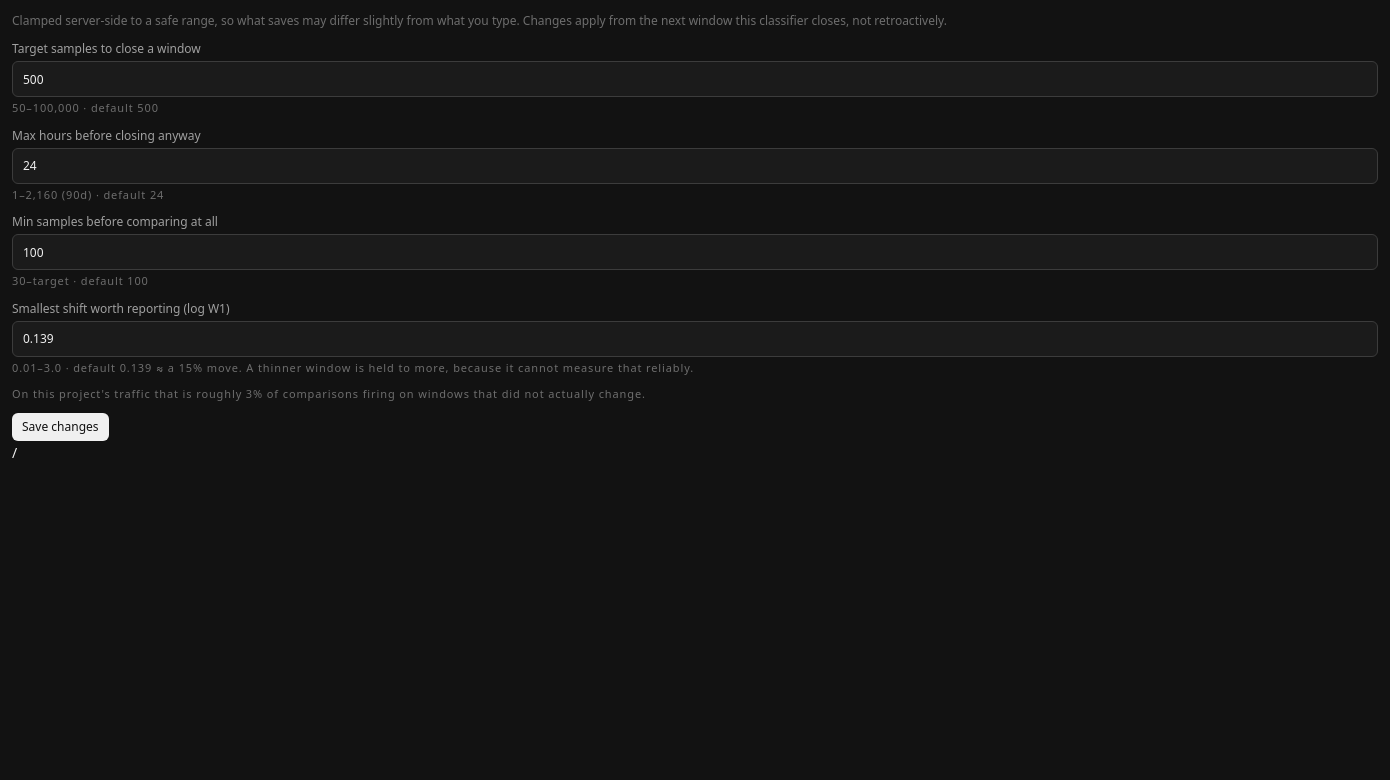
Test case: TuningSection › marks the Classifiers charts stale after a save
The image size is (1390, 780).
Replace the text in the number field labelled "Min samples" with "500" at (695, 252), box [12, 234, 1378, 270]
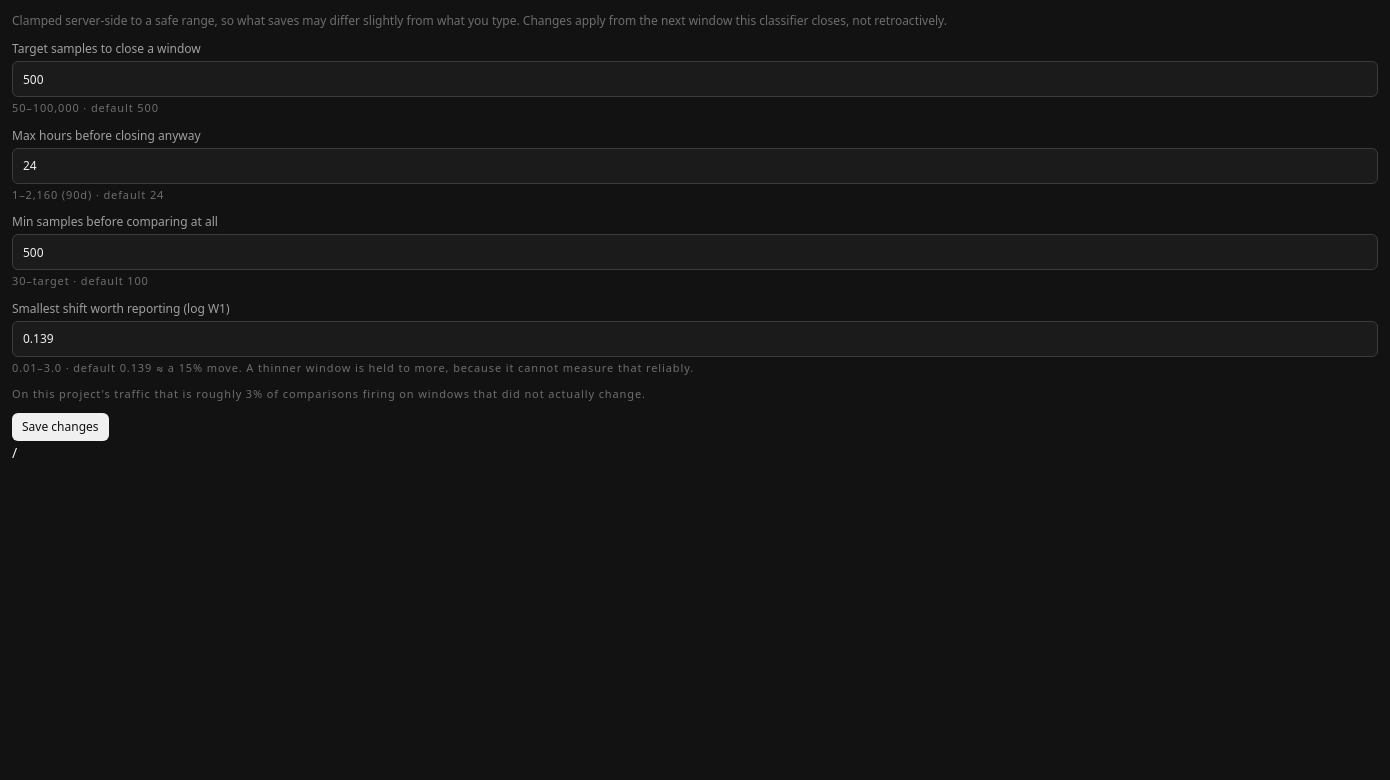
Click the button "Save changes" at (60, 426), box [12, 412, 108, 440]
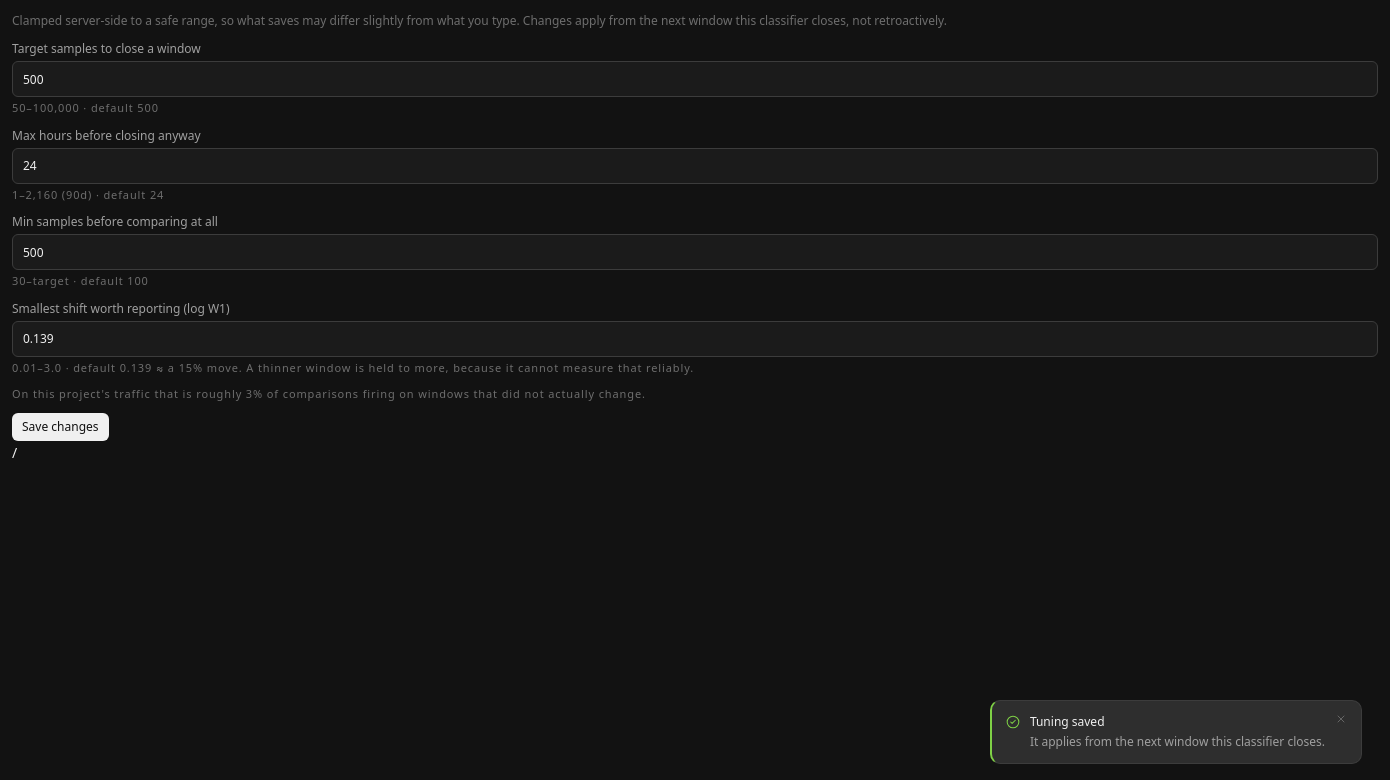
expect the text "Tuning saved" is shown: met, box [1030, 713, 1104, 730]
